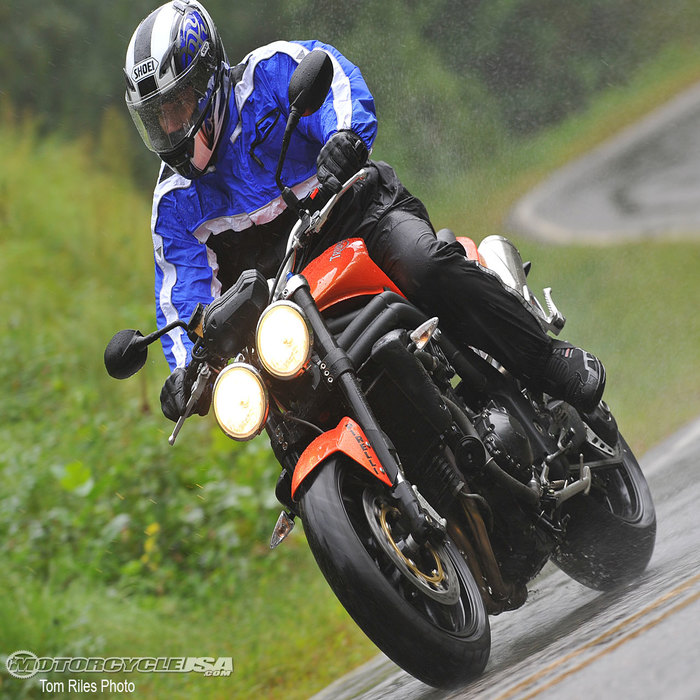h: (121, 1, 230, 183)
